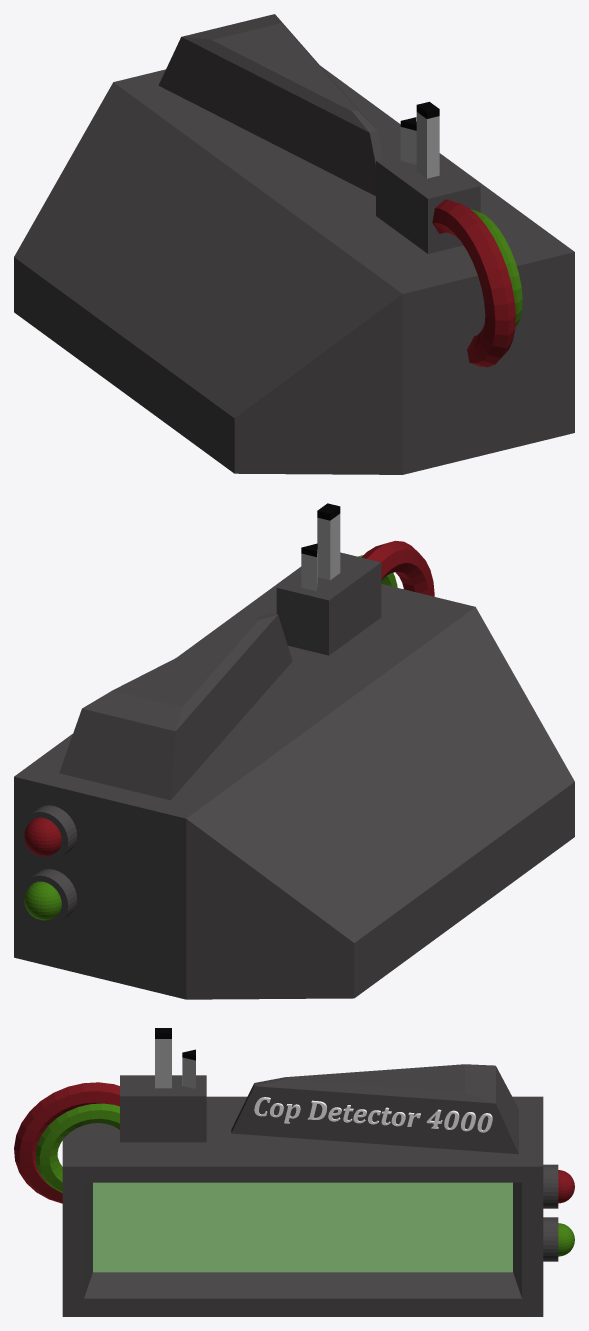
File: Cop_Detector.glb
3 views of the same model, one above another, from view 1: azimuth 30°, elevation 25°; view 2: azimuth 150°, elevation 25°; view 3: azimuth 270°, elevation 25° (orthographic). The views are drawn at different scales.
Visible parts, largest first — view 1: Cube, Torus, Torus.001; view 2: Cube, Torus, Cylinder, Cylinder.001, Sphere.001, Sphere; view 3: Cube, Torus, Torus.001, Text, Cylinder.001, Cylinder, Sphere.001, Sphere.
Part boxes in pixels (x1,y1,x2,y2): Cube: [14, 14, 574, 474]; Torus: [432, 199, 515, 367]; Torus.001: [470, 208, 522, 326]; Cube: [14, 503, 574, 999]; Torus: [361, 540, 434, 596]; Cylinder: [22, 805, 76, 861]; Cylinder.001: [22, 869, 76, 925]; Sphere.001: [24, 881, 61, 920]; Sphere: [24, 817, 61, 856]; Cube: [62, 1028, 543, 1316]; Torus: [14, 1082, 119, 1203]; Torus.001: [35, 1103, 119, 1192]; Text: [254, 1097, 492, 1132]; Cylinder.001: [543, 1217, 558, 1261]; Cylinder: [543, 1164, 558, 1208]; Sphere.001: [558, 1223, 574, 1256]; Sphere: [558, 1170, 574, 1203].
Size of the model in its own units: 1.21 by 1.15 by 2.32.
